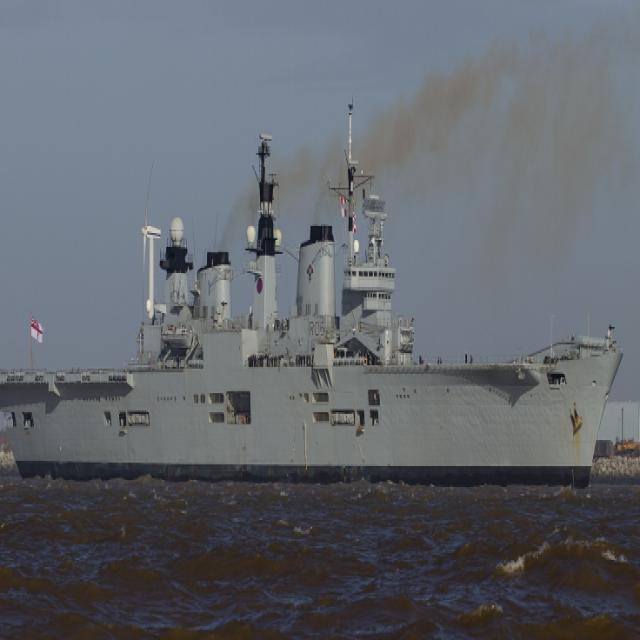Portanaves: (1, 86, 627, 502)
